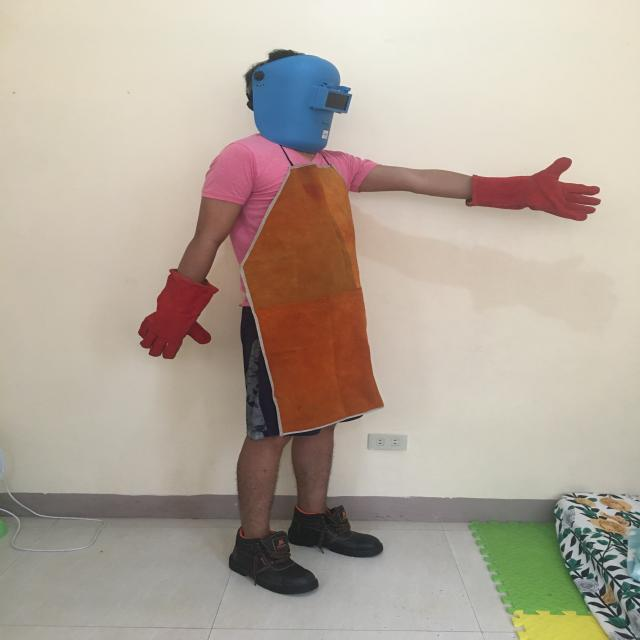with_helmet: (235, 48, 355, 149)
